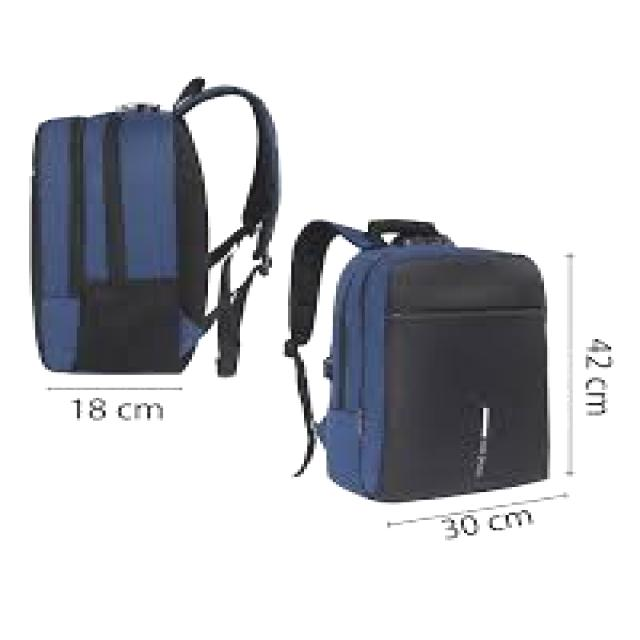backpack: (283, 218, 552, 504), (27, 75, 280, 376)
